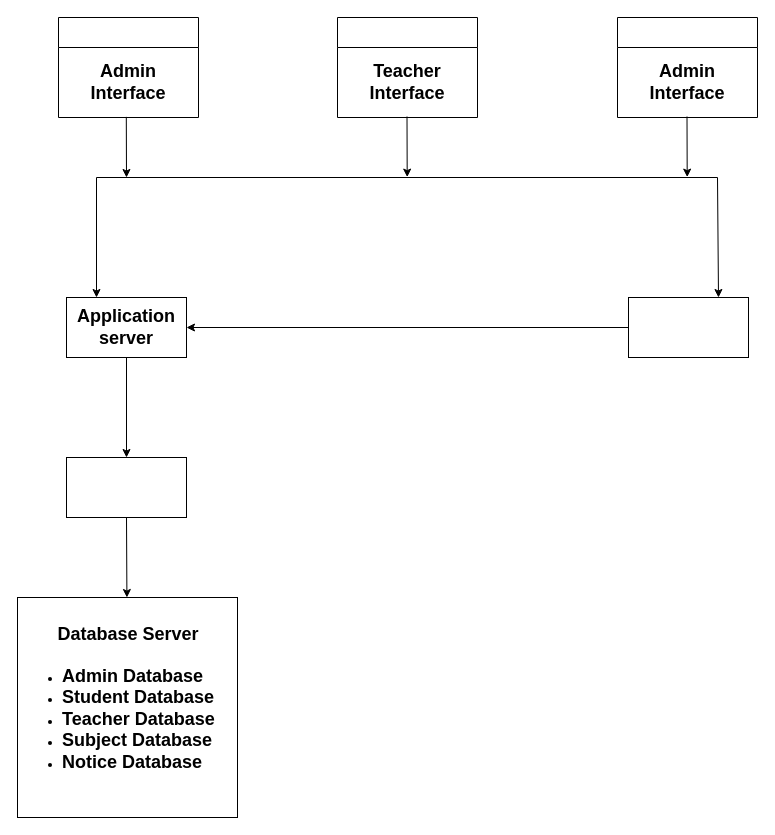
Image size: 775x835. Some labels were removed from this diagram. Each missing label, with the box of its shape:
Business Logic: (66, 456, 186, 518)
Collage staffs: (628, 296, 748, 358)
